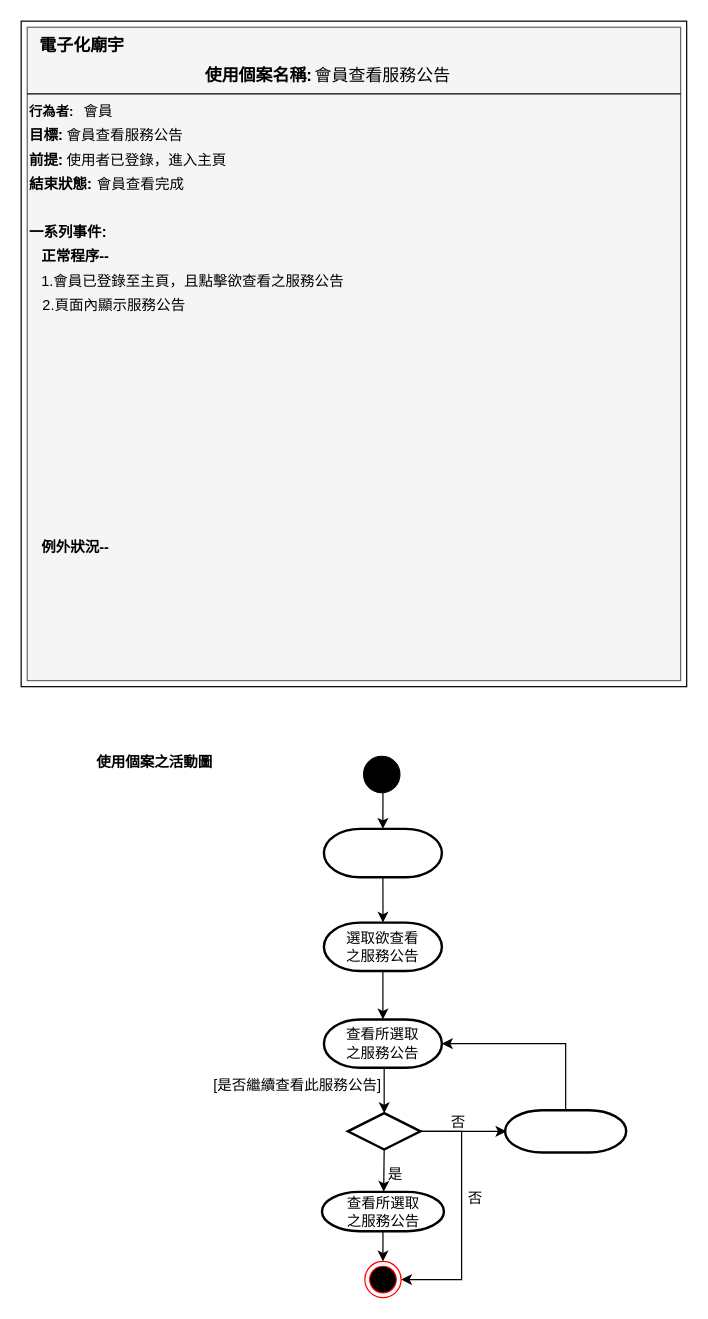
Some shapes in this 708 by 1319 pixel diagram are drawn without their labels. The centre of each missing label's shape, as x and y in pixels:
"點選其他 服務公告" goes at point (565, 1130).
"點選服務公告" goes at point (382, 852).
